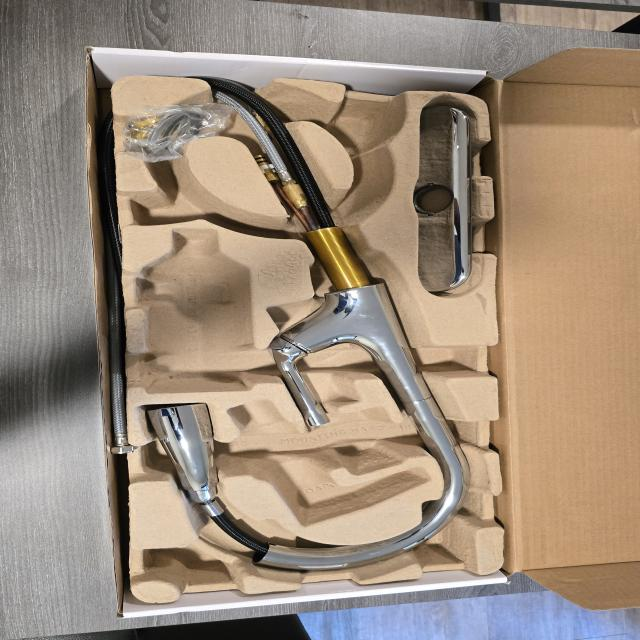1: (142, 78, 470, 571)
2m: (229, 400, 425, 525)
3m: (144, 230, 248, 394)
4: (413, 106, 473, 294)
5m: (329, 103, 397, 152)
6: (121, 103, 241, 163)
7m: (130, 182, 242, 227)
